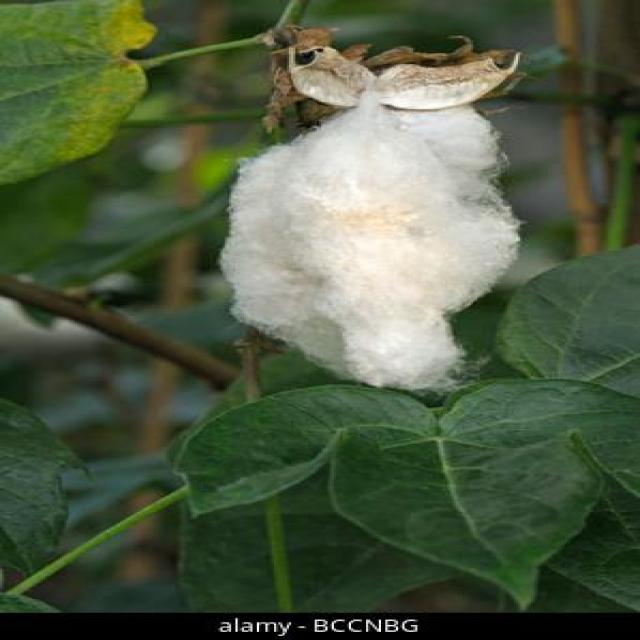Late_blight: (204, 14, 538, 403)
